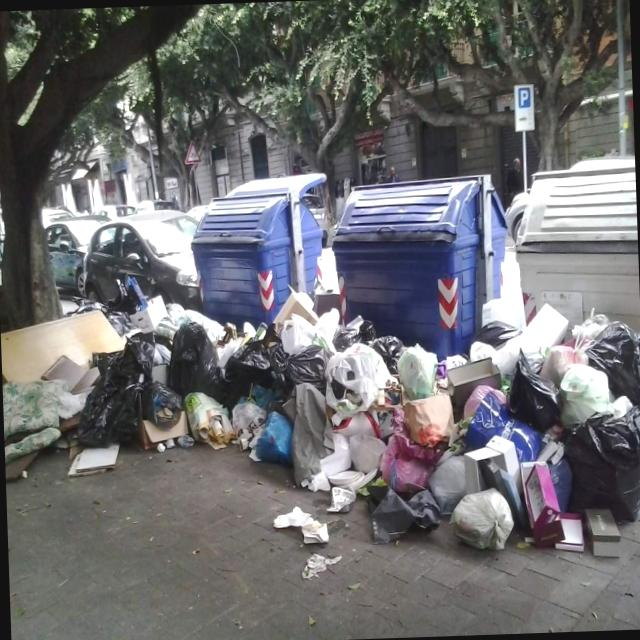garbage: (24, 155, 640, 585)
